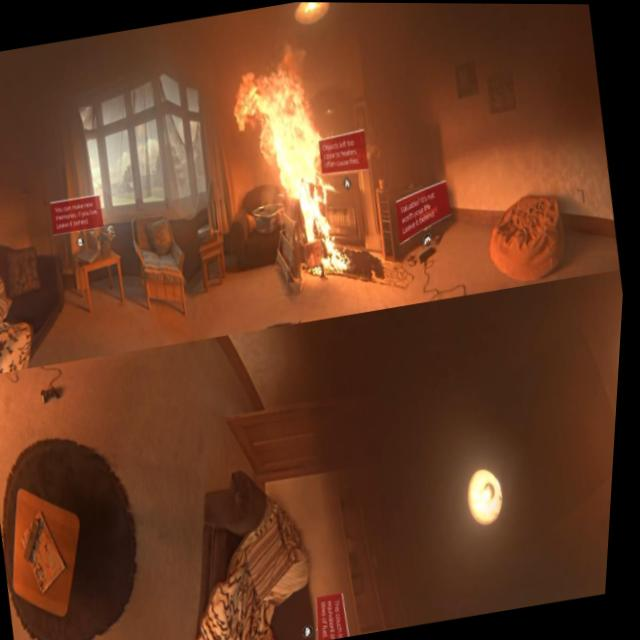fire: (219, 51, 366, 292)
